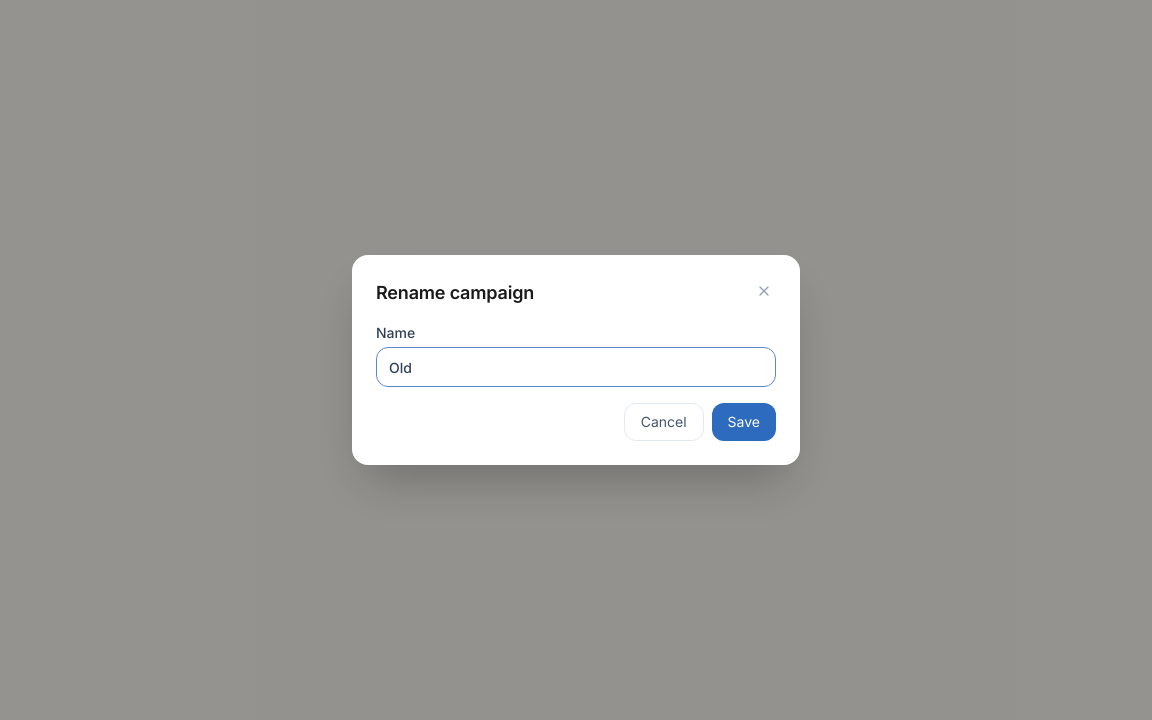
Test: rename modal › refuses an empty name
The width and height of the screenshot is (1152, 720).
Clear the field labelled "Name" at [576, 367], box [376,347,776,387]
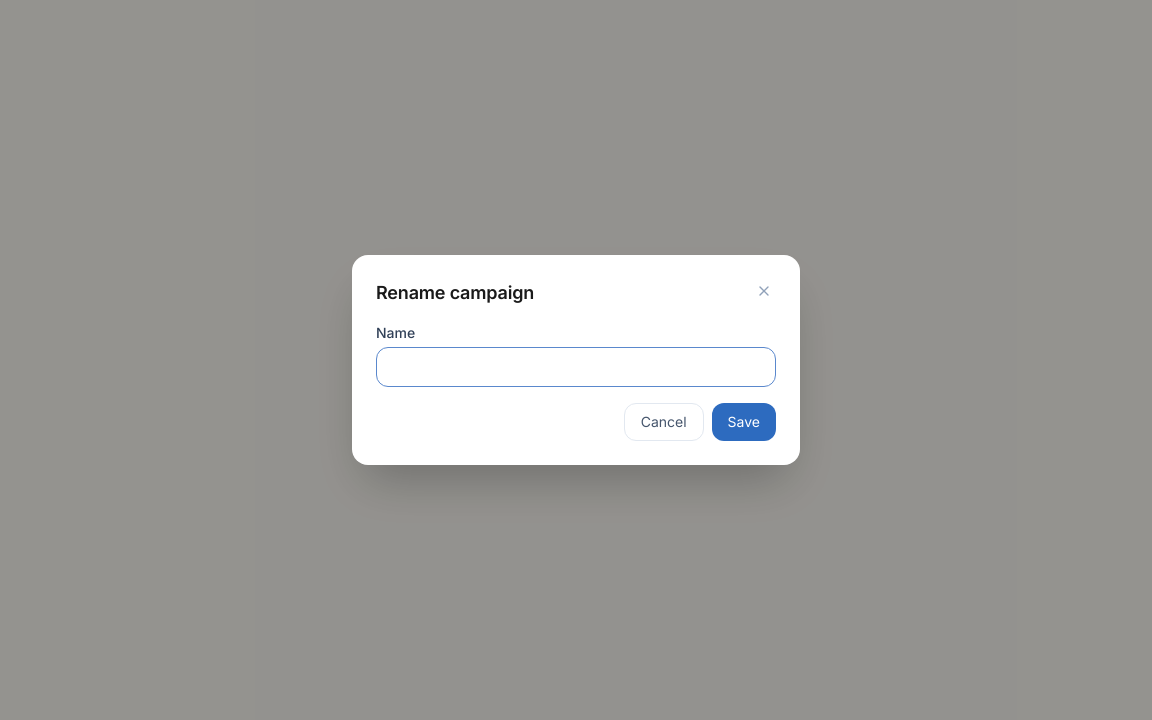
Click the button "Save" at [744, 422], box [712,403,776,441]
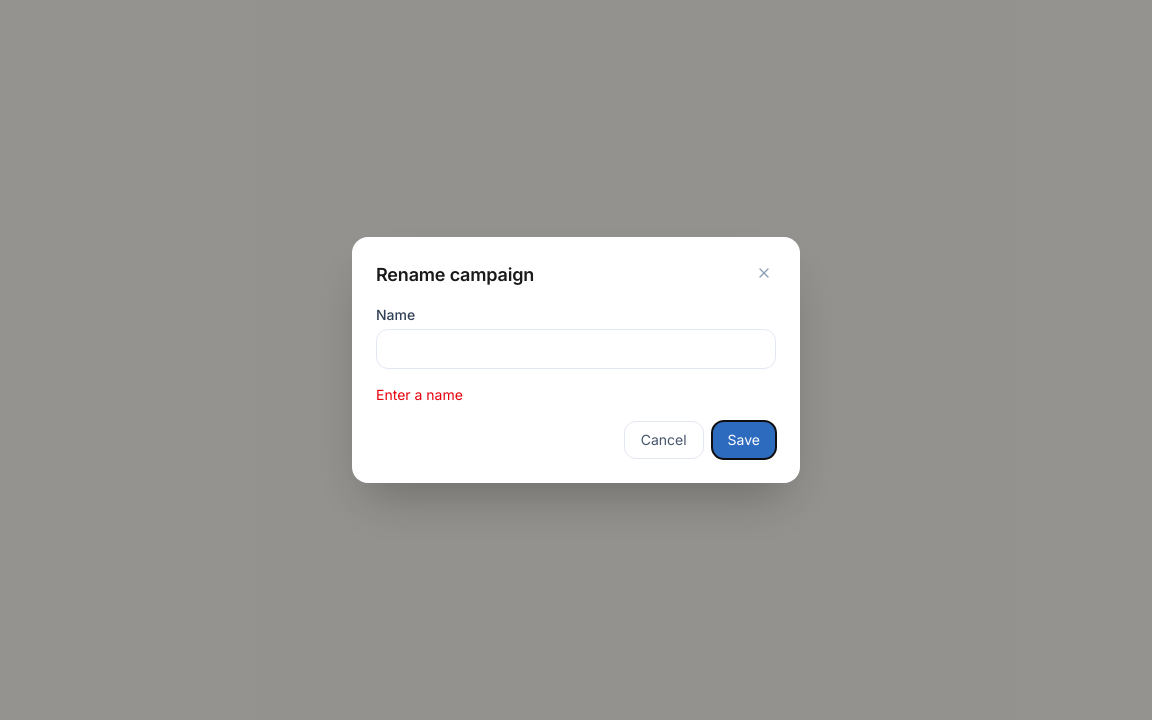
Check: the message reads "Enter a name", box [376,386,463,403]
